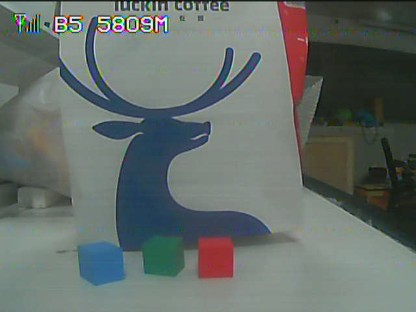b: (78, 244, 122, 282)
g: (144, 236, 184, 274)
r: (197, 238, 233, 277)
